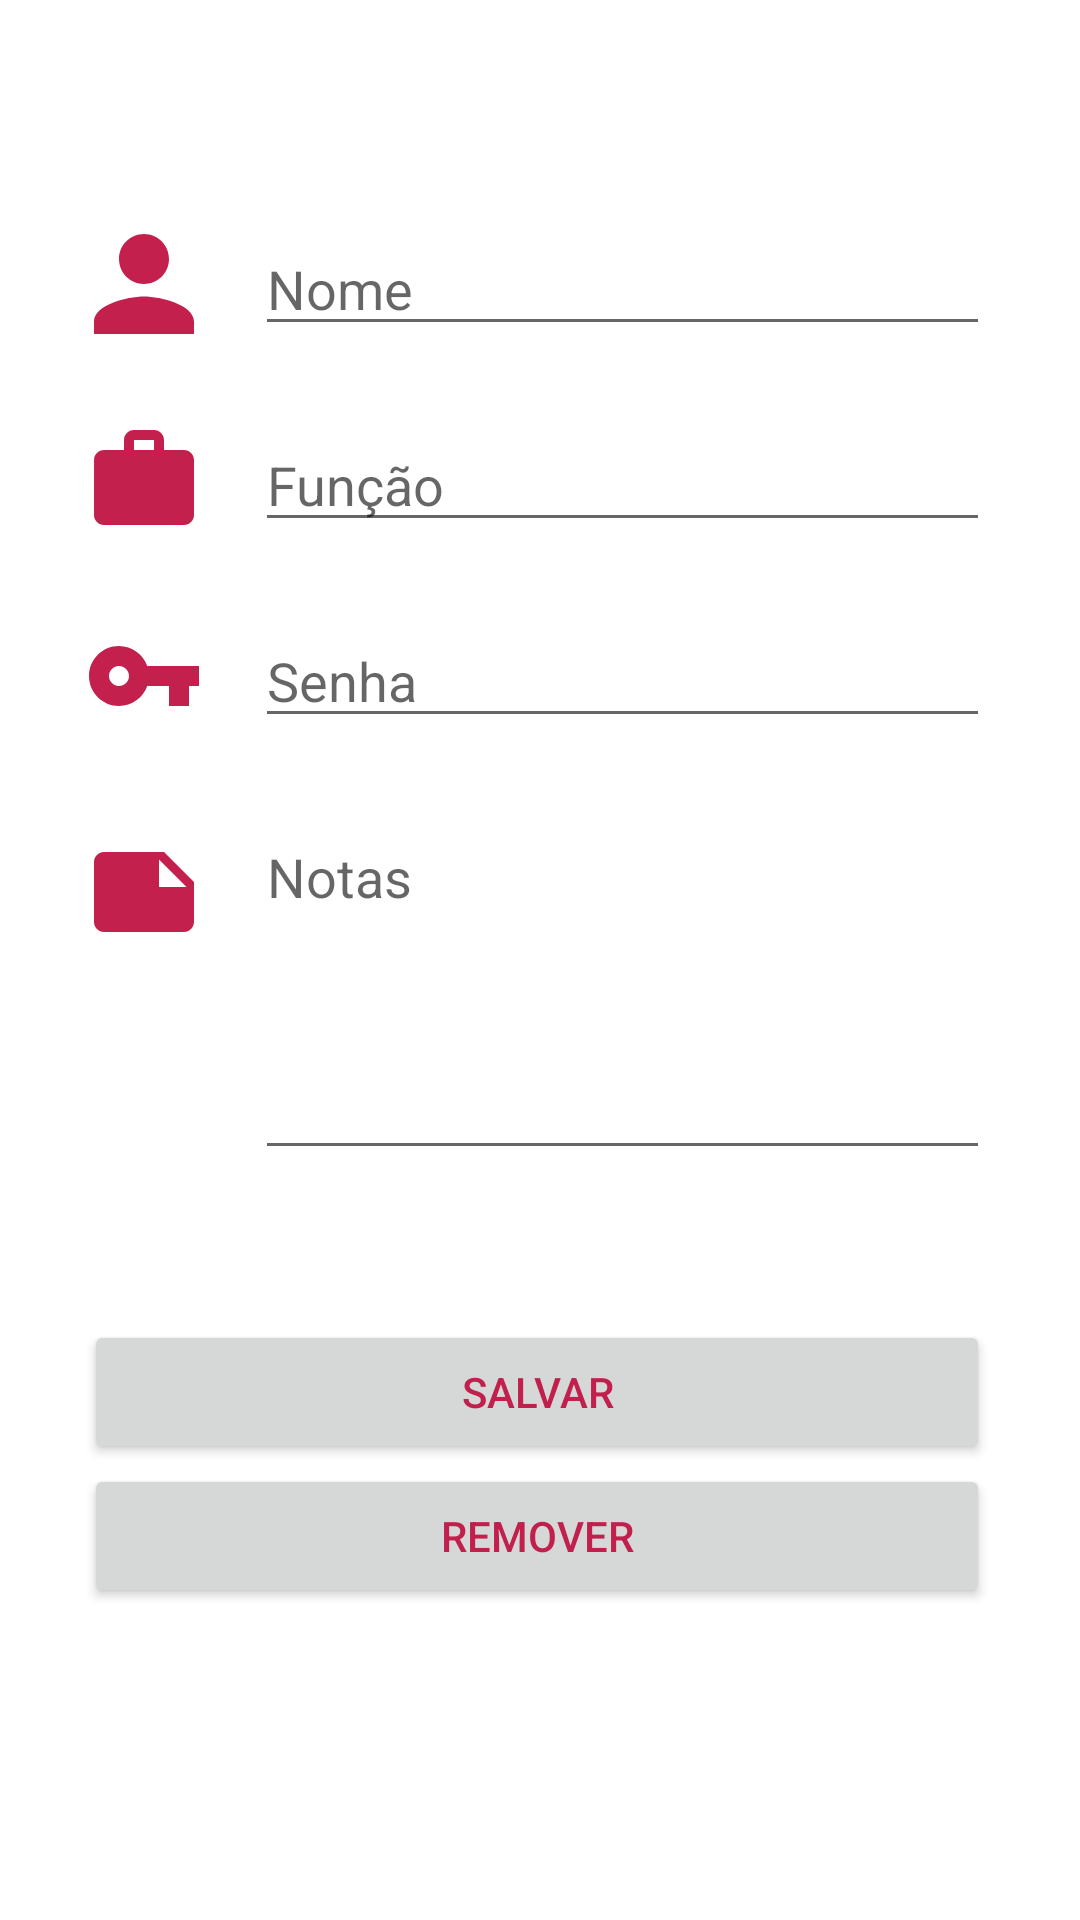

Locate icon controls on the screen. Image size 1080px x 1920px, boxes as [x1=x1, y1=y1, x2=x2, y2=y2].
note: [x1=94, y1=852, x2=194, y2=932]
person: [x1=94, y1=234, x2=194, y2=334]
vpn key: [x1=89, y1=646, x2=199, y2=706]
work: [x1=94, y1=430, x2=194, y2=525]
